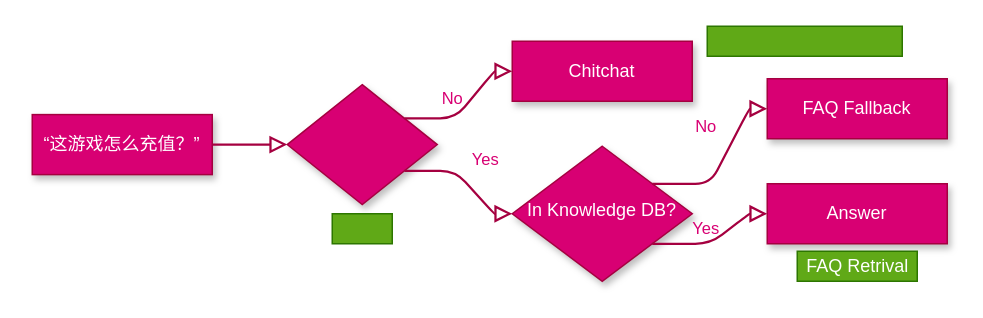
Image size: 983x318. Some labels were removed from this diagram. Here are the shapes that lost their labels. From the top down, the centre of each, then its label:
At pixel 804 40: "CHITCHAT SERVICE".
At pixel 363 146: "is FAQ".
At pixel 361 228: "NLU".
